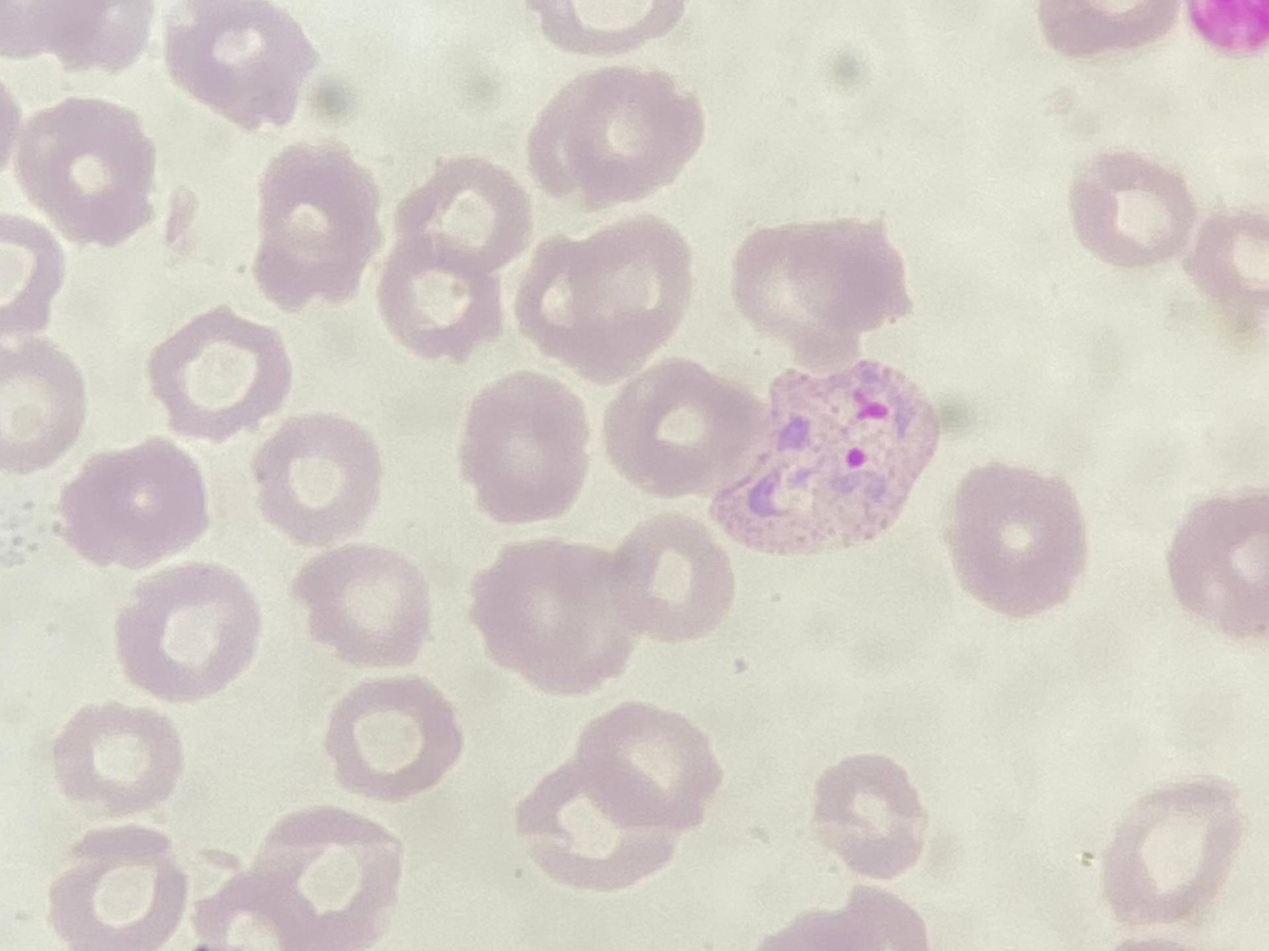Infected: (330, 400, 560, 591)
Uninfected: (577, 570, 752, 734), (358, 582, 539, 735), (633, 256, 798, 409), (567, 740, 740, 884), (590, 58, 756, 195), (882, 642, 1017, 807), (506, 452, 662, 593), (867, 0, 1019, 143), (180, 332, 321, 484), (1110, 708, 1249, 853), (23, 23, 161, 168), (547, 114, 693, 251), (677, 428, 809, 578), (1061, 381, 1209, 514), (1007, 248, 1150, 385), (978, 508, 1119, 645), (952, 823, 1102, 950), (884, 405, 1020, 538), (804, 151, 946, 276), (736, 675, 878, 796), (834, 283, 972, 407), (1079, 0, 1217, 121), (761, 587, 890, 712), (533, 309, 660, 434), (1083, 132, 1215, 248), (0, 311, 101, 461), (340, 71, 457, 196), (73, 681, 199, 797), (1182, 478, 1267, 605), (1, 629, 86, 744)
